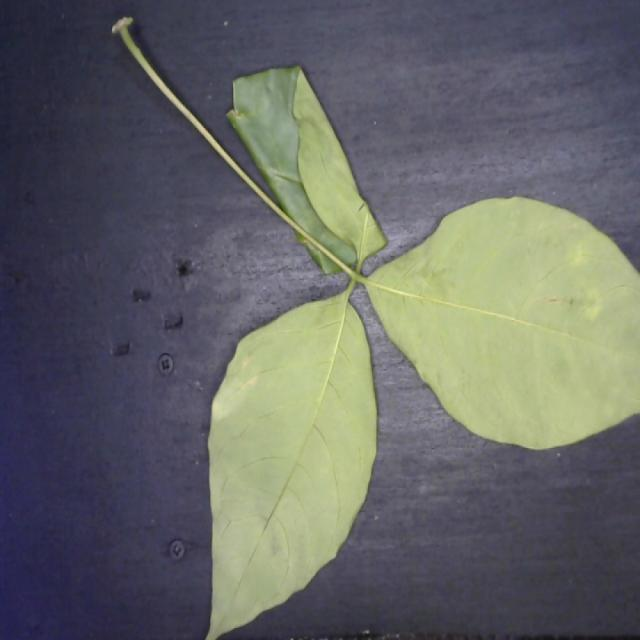biodegradable: (110, 11, 640, 640)
